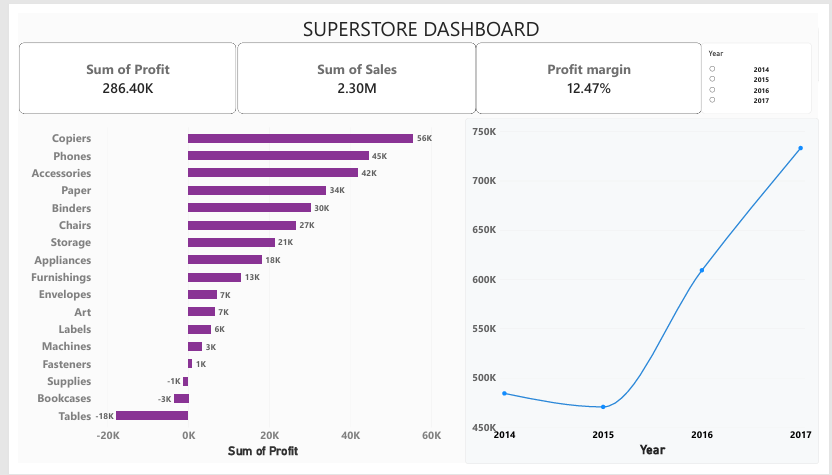

This screenshot's page, from the dashboard's own definition file:
{"tool":"powerbi","page":{"name":"Page 1","canvas":[1920,1080],"ordinal":0},"visuals":[{"type":"barChart","fields":{"Category":["Sample - Superstore.Sub-Category"],"Y":["Sum(Sample - Superstore.Profit)"]},"box":[10.9,249.7,1018.8,830.6],"z":0},{"type":"lineChart","fields":{"Category":["Sample - Superstore.Year"],"Y":["Sum(Sample - Superstore.Sales)"]},"box":[1071.3,249.7,848.7,830.6],"z":1},{"type":"textbox","box":[10.1,0,1910.3,83.1],"z":2},{"type":"cardVisual","fields":{"Data":["Sum(Sample - Superstore.Profit)"]},"box":[0,68.9,521.2,170.3],"z":5},{"type":"cardVisual","fields":{"Data":["Sum(Sample - Superstore.Sales)"]},"box":[525.2,68.9,571.9,170.3],"z":6},{"type":"cardVisual","fields":{"Data":["Sample - Superstore.Profit margin"]},"box":[1097.1,68.9,541.4,170.3],"z":7},{"type":"listSlicer","fields":{"Values":["Sample - Superstore.Year"]},"box":[1637.7,68.8,264.2,170.1],"z":8}]}

Visuals, with their boxes in screenshot pixels (x1, y1, x2, y2), scaled from the page's 1920x1080 canvas onto the 832x475 screenshot:
barChart - Sample - Superstore.Sub-Category x Sum(Sample - Superstore.Profit): detection(5, 110, 446, 474)
lineChart - Sample - Superstore.Year x Sum(Sample - Superstore.Sales): detection(464, 110, 831, 474)
textbox: detection(4, 0, 831, 37)
cardVisual - Sum(Sample - Superstore.Profit): detection(0, 30, 226, 105)
cardVisual - Sum(Sample - Superstore.Sales): detection(228, 30, 475, 105)
cardVisual - Sample - Superstore.Profit margin: detection(475, 30, 710, 105)
listSlicer - Sample - Superstore.Year: detection(710, 30, 824, 105)
